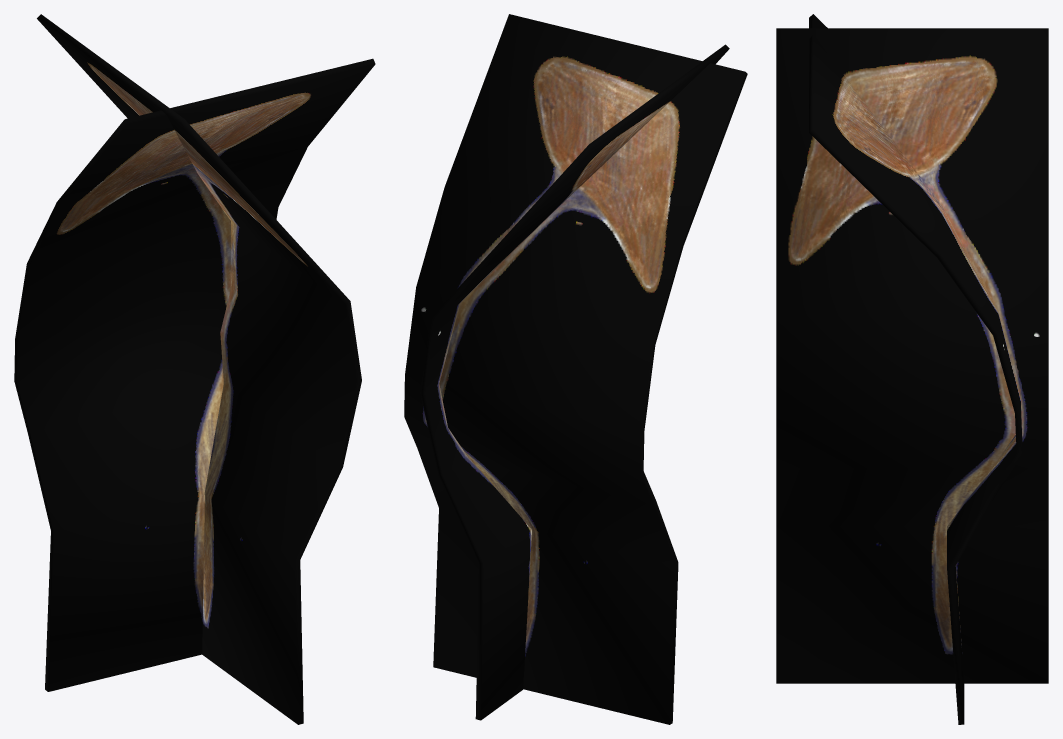
Rendered from BrownMushroom3.fbx.
3 views of the same model, side by side, from view 1: azimuth 30°, elevation 25°; view 2: azimuth 150°, elevation 25°; view 3: azimuth 270°, elevation 25° (orthographic). The views are drawn at different scales.
Parts seen in each view (by area): view 1: BrownMushroom3; view 2: BrownMushroom3; view 3: BrownMushroom3.
Boxes of the visible parts, bbox=[...] form: BrownMushroom3: bbox=[14, 14, 375, 724]; BrownMushroom3: bbox=[404, 14, 747, 724]; BrownMushroom3: bbox=[776, 14, 1048, 724].
Bounding box in the file's own units: 181 × 442 × 181.
1 material, 1 textured.
